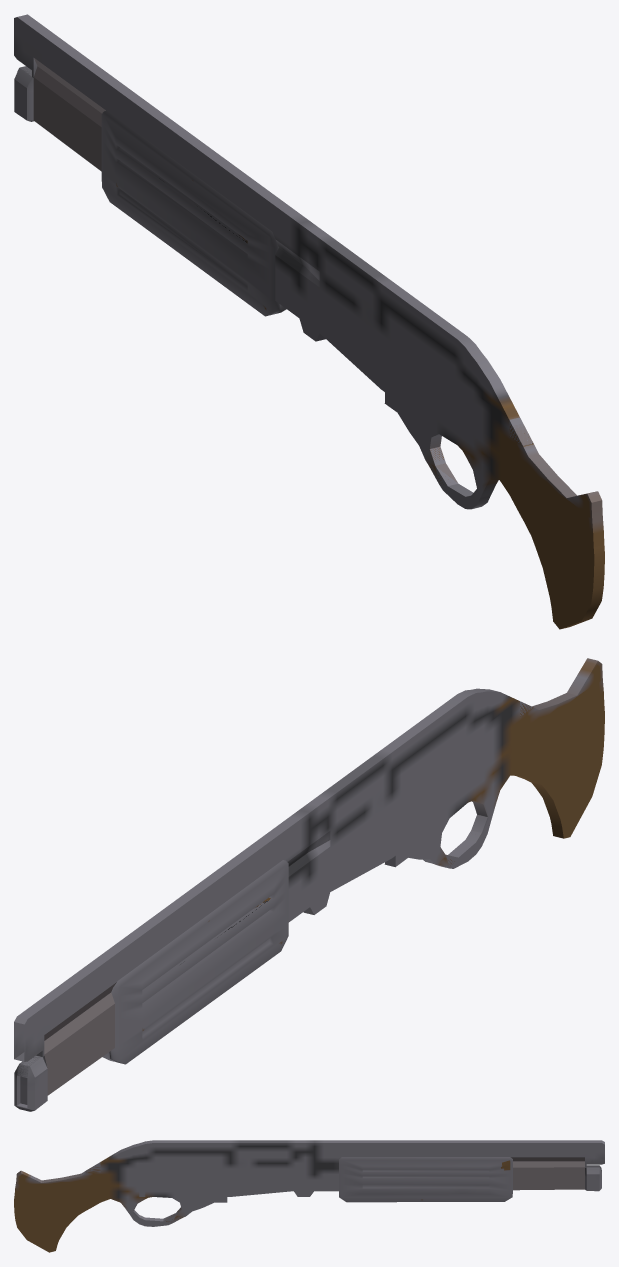
The model's file is shotgun.fbx.
3 views of the same model, one above another, from view 1: azimuth 30°, elevation 25°; view 2: azimuth 150°, elevation 25°; view 3: azimuth 270°, elevation 25° (orthographic). The views are drawn at different scales.
Visible parts, largest first — view 1: shotgun, stvorka; view 2: shotgun, stvorka; view 3: shotgun, stvorka.
Part boxes in pixels (x1,y1,x2,y2): shotgun: (14, 14, 604, 629); stvorka: (101, 110, 286, 316); shotgun: (14, 658, 604, 1111); stvorka: (102, 860, 288, 1064); shotgun: (14, 1140, 604, 1252); stvorka: (339, 1157, 512, 1202).
Bounding box in the file's own units: 7.91 × 60.87 × 297.
